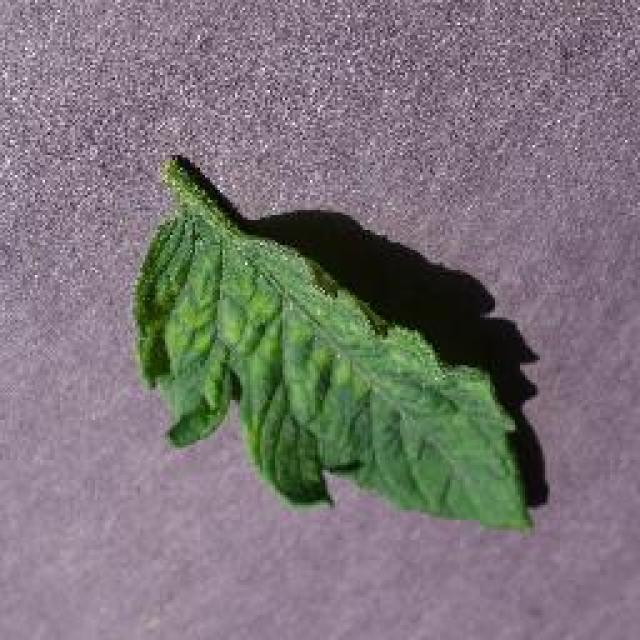Tomato___Tomato_mosaic_virus: (132, 160, 525, 525)
